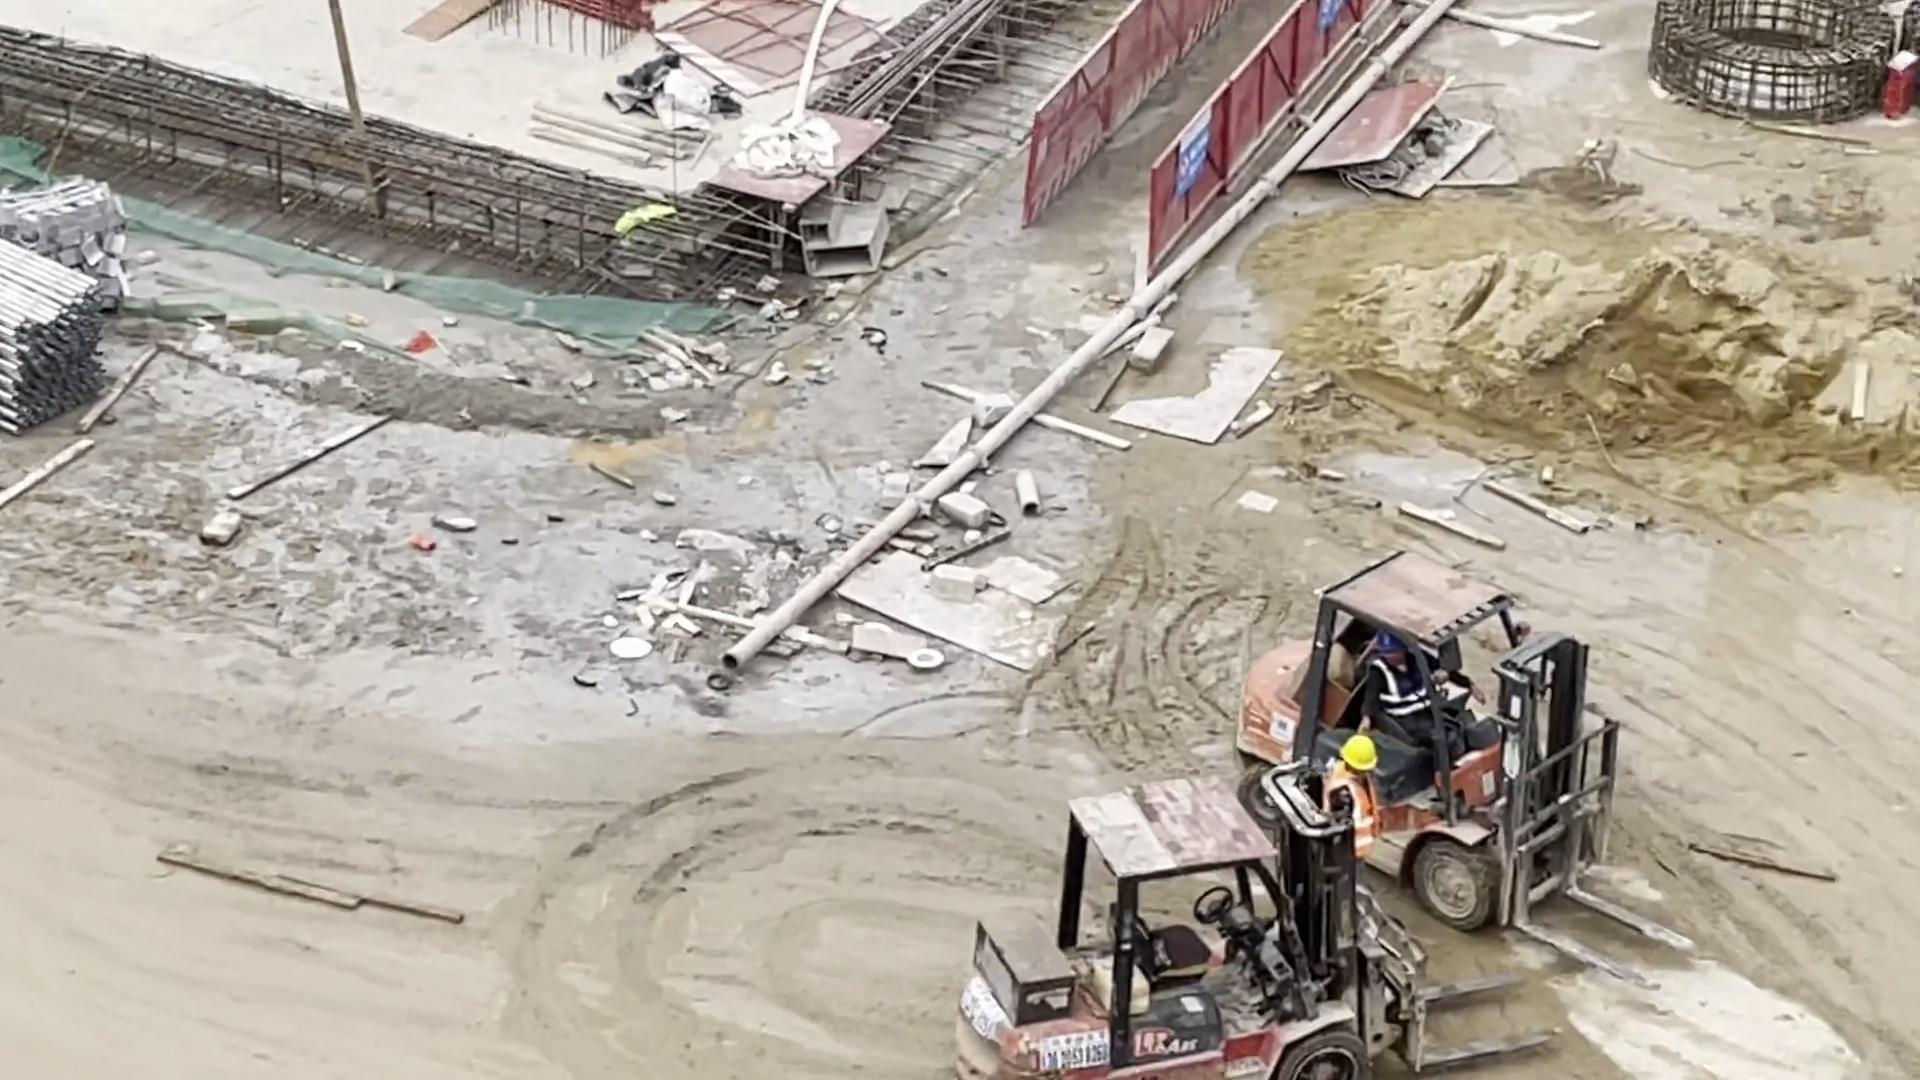fence: (1021, 2, 1374, 275)
helmet: (1344, 737, 1376, 773), (1374, 633, 1401, 655)
person: (1358, 624, 1486, 768), (1323, 732, 1384, 872)
scaffold: (2, 234, 106, 438)
slogan: (1176, 110, 1215, 193)
vest: (1324, 762, 1379, 863), (1373, 660, 1441, 718)
